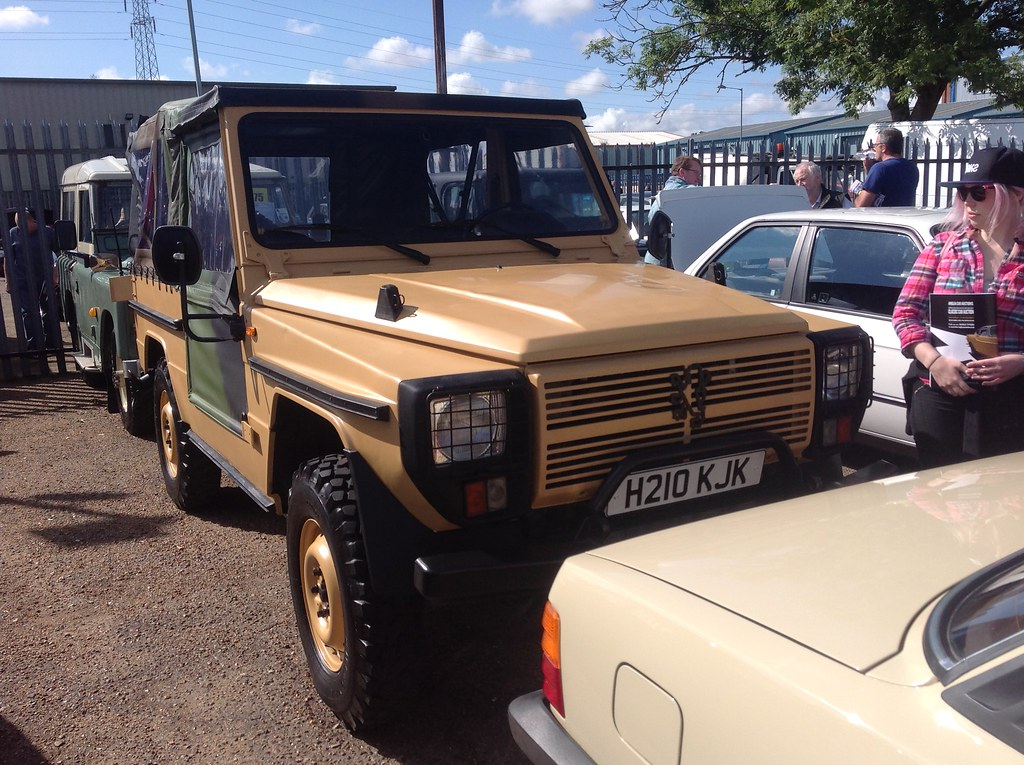license_plate: (614, 455, 758, 510)
